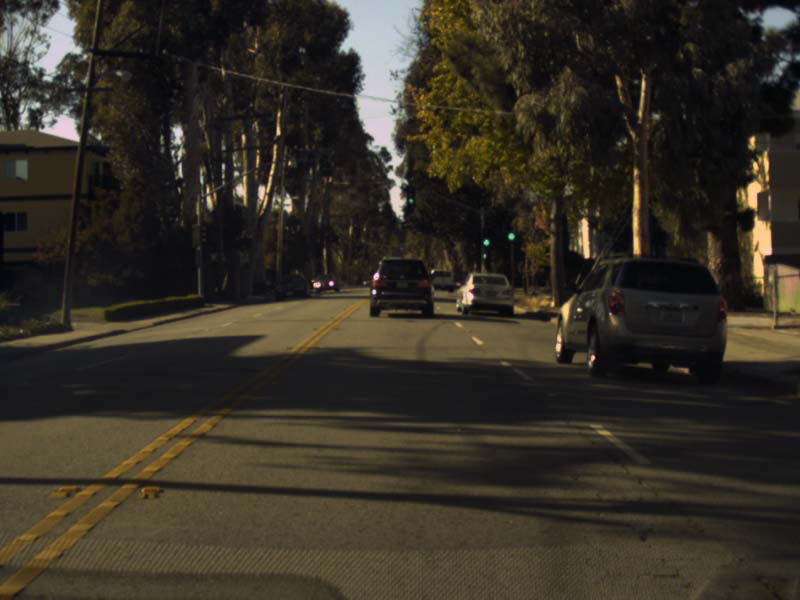Green: (505, 220, 515, 241), (481, 228, 491, 248), (406, 186, 416, 205)
